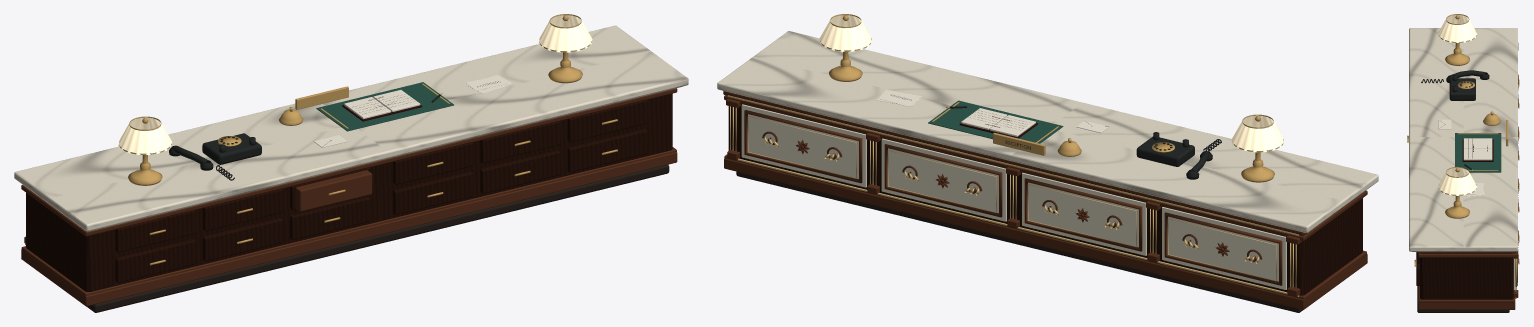
File: hotel-reception.glb
The picture shows the model from 3 angles, left to right: view 1: azimuth 30°, elevation 25°; view 2: azimuth 150°, elevation 25°; view 3: azimuth 270°, elevation 25°; orthographic projection. The views are drawn at different scales.
Visible parts, largest first — view 1: Ivory marble • mineral veining, French walnut • quarter-sawn grain, Dark carved walnut, Dark cabinet recess, Warm satin brass, Pleated champagne silk, Bottle green leather writing pad.001, Warm uncoated paper, Black Bakelite; view 2: Ivory marble • mineral veining, Warm ivory lacquer, Dark carved walnut, French walnut • quarter-sawn grain, Pale gilt ornament, Dark cabinet recess, Pleated champagne silk, Warm satin brass, Warm uncoated paper, Bottle green leather writing pad.001, Black Bakelite; view 3: Ivory marble • mineral veining, French walnut • quarter-sawn grain, Dark carved walnut, Pleated champagne silk, Warm satin brass, Bottle green leather writing pad.001, Warm uncoated paper, Black Bakelite, Pale gilt ornament, Dark cabinet recess, Oxblood calfskin, Warm ivory lacquer.
Boxes of the visible parts, x1=… form: Ivory marble • mineral veining: x1=14, y1=25, x2=688, y2=231; French walnut • quarter-sawn grain: x1=26, y1=93, x2=672, y2=291; Dark carved walnut: x1=21, y1=88, x2=677, y2=306; Dark cabinet recess: x1=87, y1=165, x2=669, y2=312; Warm satin brass: x1=128, y1=15, x2=617, y2=265; Pleated champagne silk: x1=118, y1=15, x2=592, y2=154; Bottle green leather writing pad.001: x1=316, y1=82, x2=453, y2=131; Warm uncoated paper: x1=313, y1=75, x2=513, y2=147; Black Bakelite: x1=169, y1=94, x2=440, y2=180; Ivory marble • mineral veining: x1=717, y1=31, x2=1378, y2=232; Warm ivory lacquer: x1=741, y1=104, x2=1286, y2=289; Dark carved walnut: x1=723, y1=91, x2=1367, y2=309; French walnut • quarter-sawn grain: x1=728, y1=104, x2=1362, y2=295; Pale gilt ornament: x1=727, y1=14, x2=1299, y2=297; Dark cabinet recess: x1=736, y1=171, x2=1302, y2=312; Pleated champagne silk: x1=819, y1=15, x2=1284, y2=152; Warm satin brass: x1=829, y1=15, x2=1274, y2=182; Warm uncoated paper: x1=876, y1=90, x2=1108, y2=136; Bottle green leather writing pad.001: x1=928, y1=100, x2=1063, y2=143; Black Bakelite: x1=949, y1=106, x2=1221, y2=179; Ivory marble • mineral veining: x1=1409, y1=28, x2=1517, y2=251; French walnut • quarter-sawn grain: x1=1416, y1=252, x2=1513, y2=299; Dark carved walnut: x1=1417, y1=43, x2=1518, y2=309; Pleated champagne silk: x1=1438, y1=15, x2=1477, y2=195; Warm satin brass: x1=1407, y1=15, x2=1508, y2=266; Bottle green leather writing pad.001: x1=1455, y1=133, x2=1501, y2=172; Warm uncoated paper: x1=1438, y1=119, x2=1492, y2=196; Black Bakelite: x1=1421, y1=70, x2=1489, y2=169; Pale gilt ornament: x1=1438, y1=14, x2=1519, y2=298; Dark cabinet recess: x1=1417, y1=286, x2=1509, y2=312; Oxblood calfskin: x1=1462, y1=139, x2=1493, y2=161; Warm ivory lacquer: x1=1513, y1=258, x2=1515, y2=289.
Bounding box in the file's own units: 7.6 × 1.9 × 1.65.
13 materials, 3 textured.
